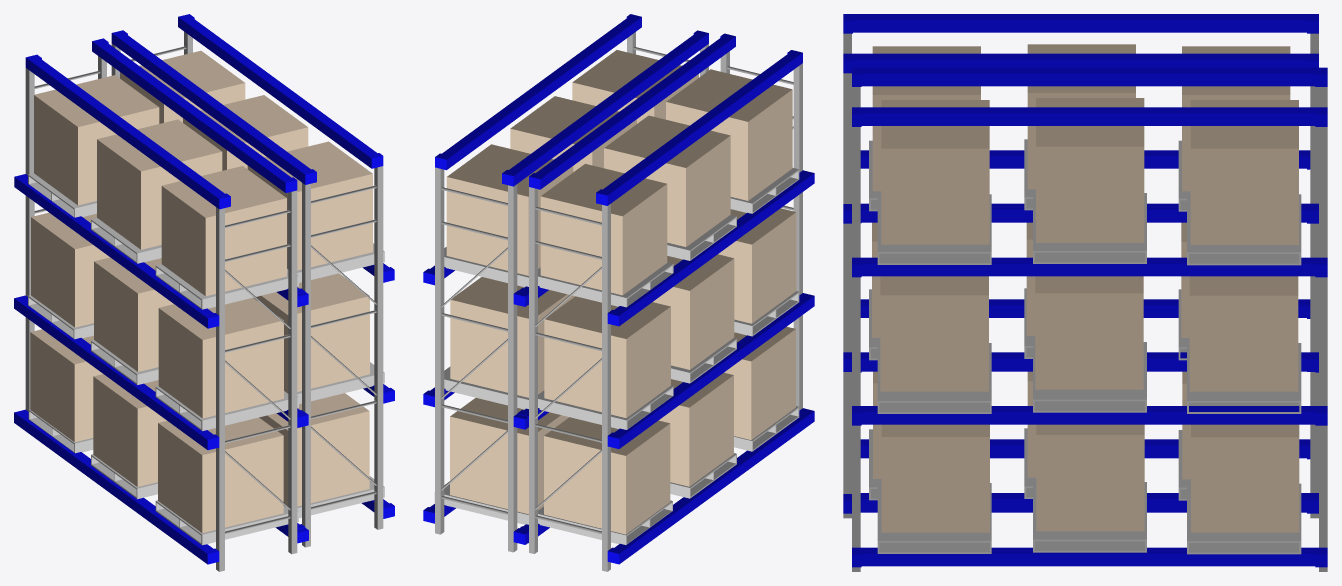
Rendered from 3d_rack.glb.
3 views of the same model, side by side, from view 1: azimuth 30°, elevation 25°; view 2: azimuth 150°, elevation 25°; view 3: azimuth 270°, elevation 25° (orthographic). The views are drawn at different scales.
Parts seen in each view (by area): view 1: box (×14), _8__beam (×7), post (×5), pallet (×12); view 2: box (×14), _8__beam (×7), post (×5), pallet (×12); view 3: box (×18), _8__beam (×15), pallet (×9), post (×4).
Part boxes in pixels (box(x1,y1,x2,y2)): box (×14): box(30, 50, 372, 533); _8__beam (×7): box(14, 14, 383, 564); post (×5): box(25, 68, 383, 571); pallet (×12): box(28, 173, 384, 545); box (×14): box(446, 50, 796, 534); _8__beam (×7): box(435, 14, 814, 564); post (×5): box(435, 63, 802, 571); pallet (×12): box(434, 168, 799, 544); box (×18): box(872, 44, 1299, 532); _8__beam (×15): box(843, 14, 1327, 567); pallet (×9): box(877, 193, 1301, 554); post (×4): box(843, 73, 1327, 571).
Size of the model in its own units: 94.9 by 177 by 170.
